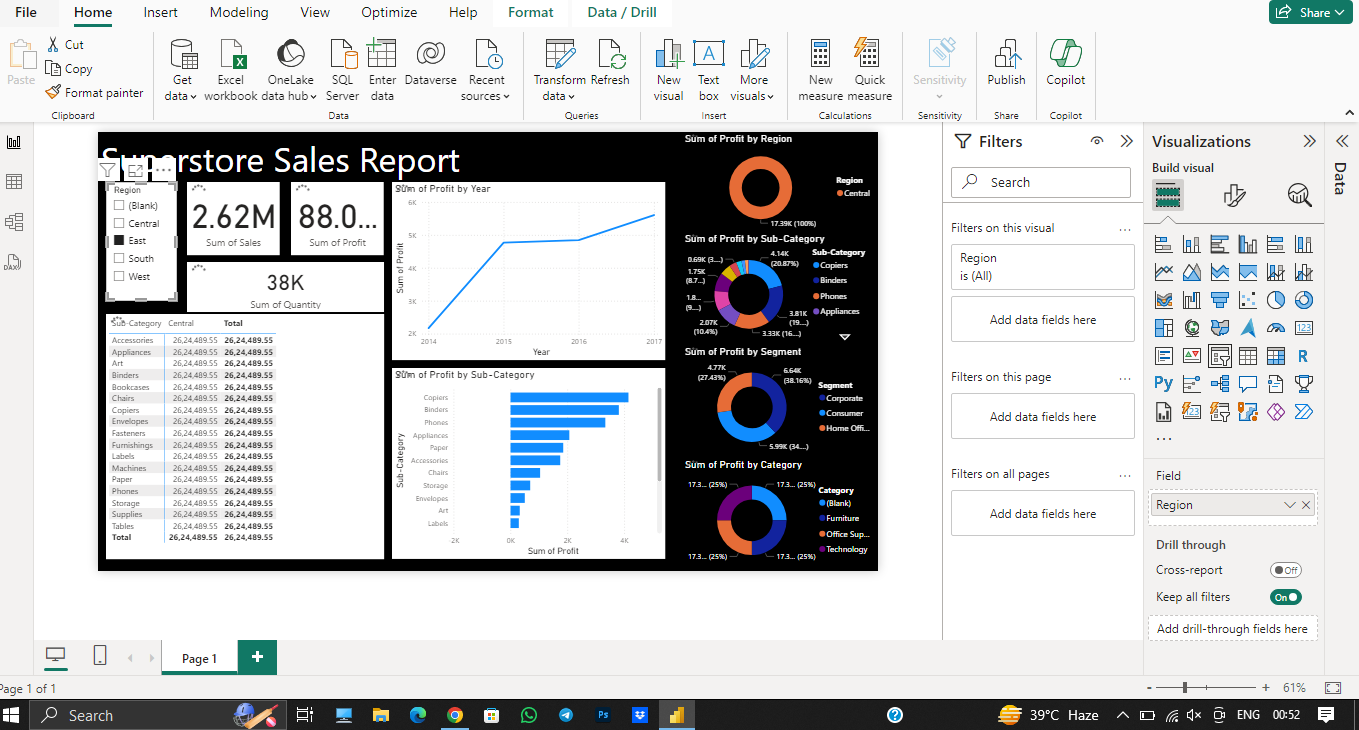

The page's visual inventory and layout, read from the dashboard file:
{"tool":"powerbi","page":{"name":"Superstore Sales","canvas":[1280,720],"ordinal":0},"visuals":[{"type":"textbox","box":[0,0,854.1,137.7],"z":0},{"type":"donutChart","fields":{"Category":["Orders.Category"],"Y":["Sum(Orders (3).Profit)"]},"box":[957.4,534.4,323,185.2],"z":1000},{"type":"donutChart","fields":{"Category":["Orders (3).Segment"],"Y":["Sum(Orders (3).Profit)"]},"box":[957.4,349.2,323,185.2],"z":2000},{"type":"donutChart","fields":{"Category":["Orders (3).Sub-Category"],"Y":["Sum(Orders (3).Profit)"]},"box":[957.4,163.9,323,185.2],"z":3000},{"type":"donutChart","fields":{"Category":["Orders (3).Region"],"Y":["Sum(Orders (3).Profit)"]},"box":[957.4,0,323,163.9],"z":4000},{"type":"barChart","fields":{"Category":["Orders (3).Sub-Category"],"Y":["Sum(Orders (3).Profit)"]},"box":[482,386.9,447.5,313.1],"z":5000},{"type":"lineChart","fields":{"Category":["Orders (3).Order Date.Variation.Date Hierarchy.Year","Orders (3).Order Date.Variation.Date Hierarchy.Quarter"],"Y":["Sum(Orders (3).Profit)"]},"box":[482,82,447.5,291.8],"z":6000},{"type":"slicer","fields":{"Values":["Orders (3).Region"]},"box":[13.1,82,116.4,195.1],"z":7000},{"type":"pivotTable","fields":{"Rows":["Orders (3).Sub-Category"],"Columns":["Orders (3).Region"],"Values":["Sum(Orders (4).Sales)"]},"box":[13.1,298.4,455.7,401.6],"z":8000},{"type":"card","fields":{"Values":["Sum(Orders (4).Sales)"]},"box":[145.9,82,152.5,119.7],"z":9000},{"type":"card","fields":{"Values":["Sum(Orders (4).Profit)"]},"box":[316.4,82,152.5,119.7],"z":10000},{"type":"card","fields":{"Values":["Sum(Orders (4).Quantity)"]},"box":[145.9,213.1,323,82],"z":11000}]}

Visuals, with their boxes on the page's 1280x720 design canvas (x1, y1, x2, y2). These are canvas units, not pixel positions in the 1359x730 screenshot, which may show the page scaled, cropped or inside an application window:
textbox: 0 0 854 138
donutChart - Orders.Category x Sum(Orders (3).Profit): 957 534 1280 720
donutChart - Orders (3).Segment x Sum(Orders (3).Profit): 957 349 1280 534
donutChart - Orders (3).Sub-Category x Sum(Orders (3).Profit): 957 164 1280 349
donutChart - Orders (3).Region x Sum(Orders (3).Profit): 957 0 1280 164
barChart - Orders (3).Sub-Category x Sum(Orders (3).Profit): 482 387 930 700
lineChart - Orders (3).Order Date.Variation.Date Hierarchy.Year x Orders (3).Order Date.Variation.Date Hierarchy.Quarter: 482 82 930 374
slicer - Orders (3).Region: 13 82 130 277
pivotTable - Orders (3).Sub-Category x Orders (3).Region: 13 298 469 700
card - Sum(Orders (4).Sales): 146 82 298 202
card - Sum(Orders (4).Profit): 316 82 469 202
card - Sum(Orders (4).Quantity): 146 213 469 295
